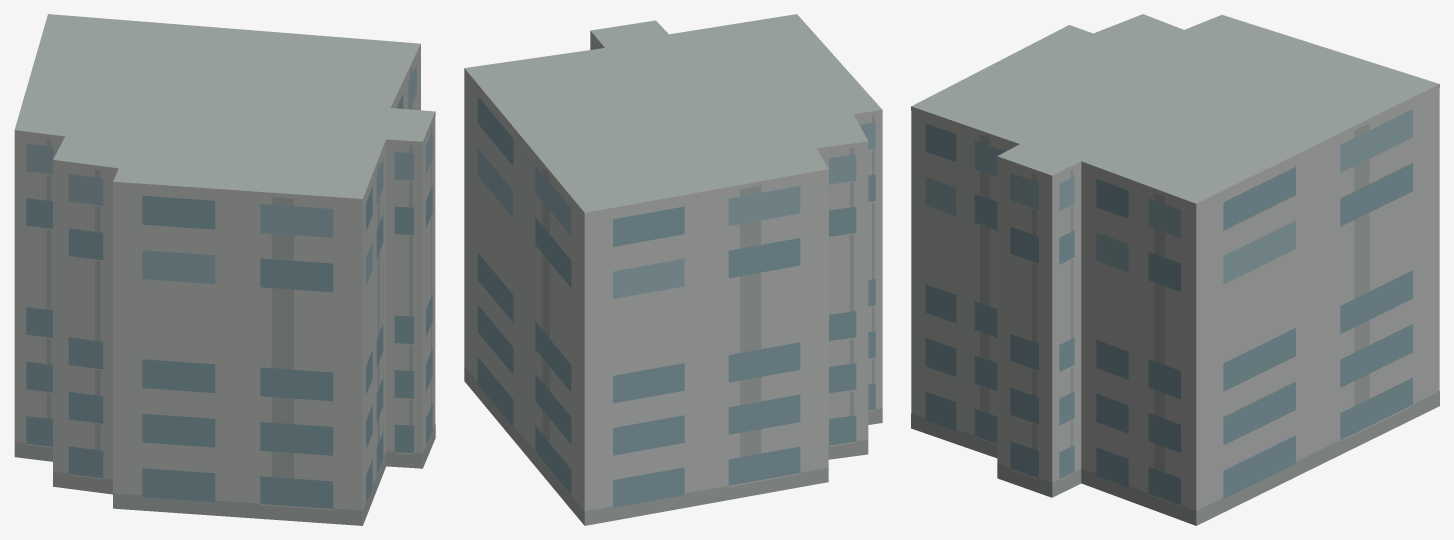
File: survey-upis-32807163.glb
3 views of the same model, side by side, from view 1: azimuth 30°, elevation 25°; view 2: azimuth 150°, elevation 25°; view 3: azimuth 270°, elevation 25° (orthographic). The views are drawn at different scales.
Parts seen in each view (by area): view 1: survey-upis-32807163.tmp; view 2: survey-upis-32807163.tmp; view 3: survey-upis-32807163.tmp.
Part boxes in pixels (x1=…): survey-upis-32807163.tmp: x1=14, y1=14, x2=435, y2=525; survey-upis-32807163.tmp: x1=464, y1=14, x2=882, y2=525; survey-upis-32807163.tmp: x1=911, y1=14, x2=1439, y2=525.
Size of the model in its own units: 22.74 by 17.99 by 26.76.
